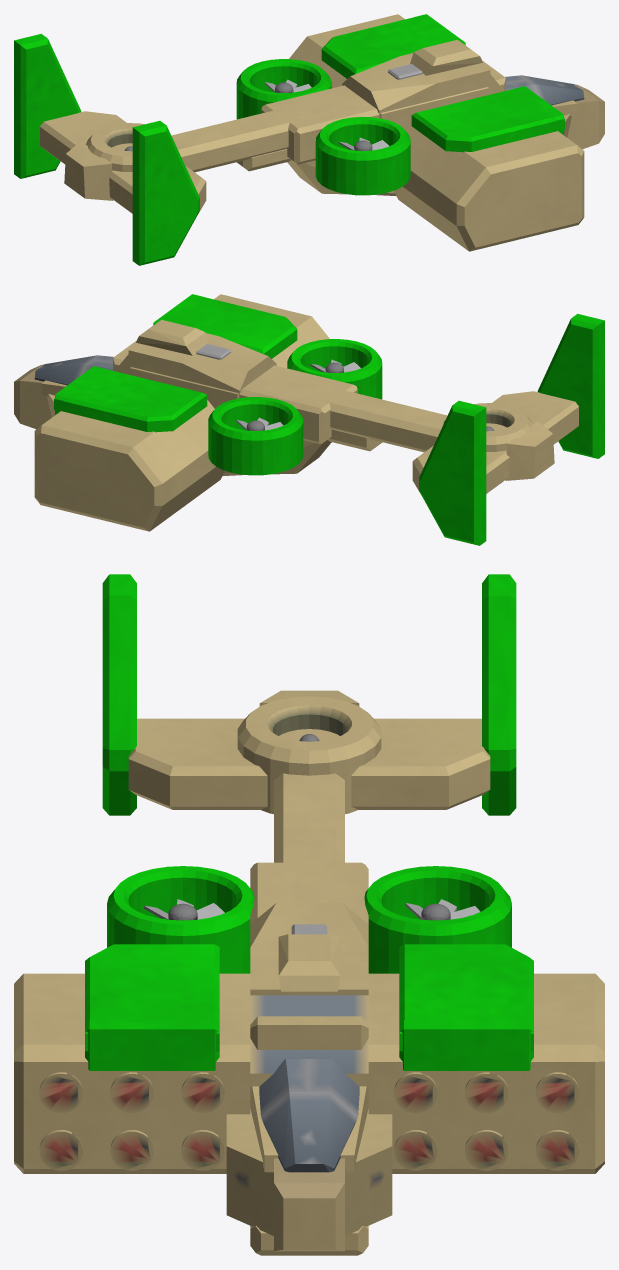
The model's file is orca-fighter.glb.
3 renders of one model, top to bottom at view 1: azimuth 30°, elevation 25°; view 2: azimuth 150°, elevation 25°; view 3: azimuth 270°, elevation 25°, orthographic. The views are drawn at different scales.
Parts seen in each view (by area): view 1: pod, fin, pod_cover, fin_2, boom, deck, pod_cover_2, rear_body, tailplane, tail_cone, pod_2, hump (+15 smaller); view 2: pod_2, fin_2, pod_cover_2, fin, boom, deck, pod_cover, rear_body, tailplane, tail_cone, pod, hump (+15 smaller); view 3: pod, pod_2, tailplane, pod_cover, pod_cover_2, canopy, nose_lower, fin, fin_2, deck, pod_cover_lip_2, pod_cover_lip (+20 smaller).
Part boxes in pixels (x1=…): pod: x1=394, y1=120, x2=584, y2=251; fin: x1=132, y1=120, x2=199, y2=265; pod_cover: x1=411, y1=87, x2=564, y2=152; fin_2: x1=14, y1=33, x2=81, y2=178; boom: x1=171, y1=108, x2=297, y2=172; deck: x1=342, y1=53, x2=490, y2=113; pod_cover_2: x1=321, y1=15, x2=456, y2=78; rear_body: x1=261, y1=86, x2=379, y2=164; tailplane: x1=40, y1=111, x2=206, y2=213; tail_cone: x1=64, y1=141, x2=113, y2=200; pod_2: x1=289, y1=14, x2=404, y2=88; hump: x1=410, y1=39, x2=482, y2=75; pod_2: x1=34, y1=400, x2=224, y2=531; fin_2: x1=419, y1=400, x2=486, y2=545; pod_cover_2: x1=54, y1=367, x2=207, y2=432; fin: x1=537, y1=313, x2=604, y2=458; boom: x1=321, y1=389, x2=447, y2=452; deck: x1=128, y1=333, x2=276, y2=393; pod_cover: x1=162, y1=295, x2=297, y2=358; rear_body: x1=239, y1=365, x2=357, y2=444; tailplane: x1=412, y1=391, x2=578, y2=493; tail_cone: x1=505, y1=421, x2=554, y2=480; pod: x1=214, y1=294, x2=329, y2=368; hump: x1=136, y1=319, x2=208, y2=355; pod: x1=14, y1=973, x2=250, y2=1173; pod_2: x1=368, y1=973, x2=604, y2=1173; tailplane: x1=128, y1=718, x2=490, y2=809; pod_cover: x1=85, y1=944, x2=219, y2=1051; pod_cover_2: x1=399, y1=944, x2=533, y2=1051; canopy: x1=259, y1=1059, x2=359, y2=1172; nose_lower: x1=226, y1=1109, x2=392, y2=1235; fin: x1=102, y1=574, x2=136, y2=815; fin_2: x1=482, y1=574, x2=516, y2=815; deck: x1=250, y1=903, x2=368, y2=995; pod_cover_lip_2: x1=399, y1=1020, x2=533, y2=1070; pod_cover_lip: x1=85, y1=1020, x2=219, y2=1070.
Size of the model in its own units: 1.32 by 0.4844 by 0.8087.
